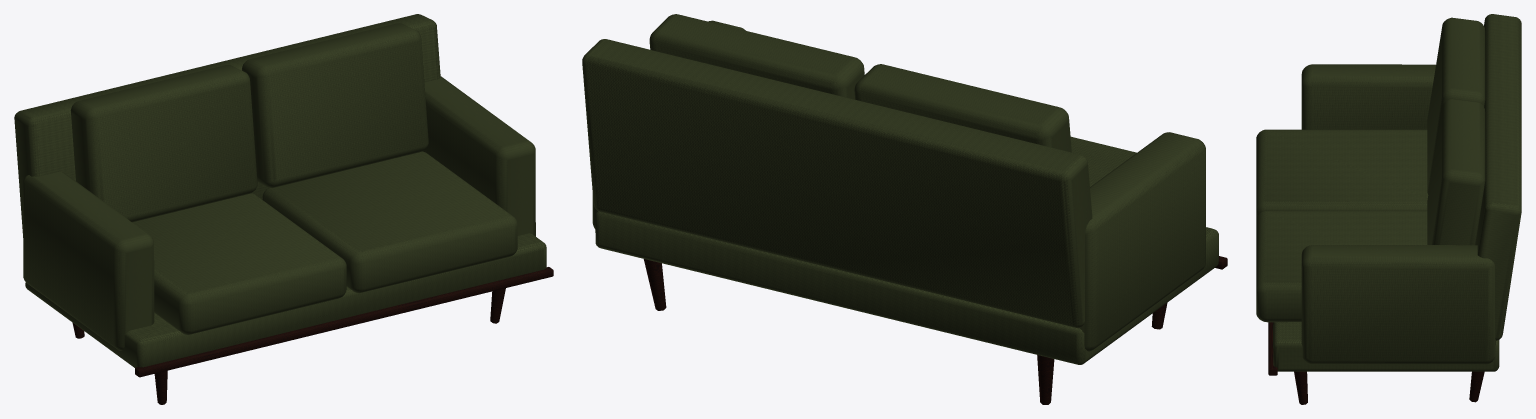
Rendered from living_sofa_2seat.glb.
3 renders of one model, left to right at view 1: azimuth 30°, elevation 25°; view 2: azimuth 150°, elevation 25°; view 3: azimuth 270°, elevation 25°, orthographic. The views are drawn at different scales.
Visible parts, largest first — view 1: Sırt_Minderi_Sag, Sırt_Minderi_Sol, Oturma_Minderi_Sag, Oturma_Minderi_Sol, Kol_Sol, Gövde_Alt_Kasa, Kol_Sag, Sırt_Gövdesi, Ahsap_Pervaz_On; view 2: Sırt_Gövdesi, Gövde_Alt_Kasa, Kol_Sol, Sırt_Minderi_Sol, Sırt_Minderi_Sag, Oturma_Minderi_Sol, Ayak_Arka_Sag, Ayak_Arka_Sol; view 3: Kol_Sag, Oturma_Minderi_Sol, Sırt_Gövdesi, Oturma_Minderi_Sag, Kol_Sol, Sırt_Minderi_Sag, Sırt_Minderi_Sol, Gövde_Alt_Kasa, Ayak_On_Sag, Ayak_Arka_Sag, Ahsap_Pervaz_On.
Boxes of the visible parts, x1,y1,x2,y2 form: Sırt_Minderi_Sag: (242, 23, 428, 187); Sırt_Minderi_Sol: (70, 65, 257, 222); Oturma_Minderi_Sag: (262, 151, 517, 293); Oturma_Minderi_Sol: (132, 193, 346, 334); Kol_Sol: (23, 171, 154, 350); Gövde_Alt_Kasa: (25, 233, 546, 367); Kol_Sag: (422, 76, 535, 236); Sırt_Gövdesi: (14, 14, 440, 237); Ahsap_Pervaz_On: (135, 267, 553, 377); Sırt_Gövdesi: (582, 39, 1092, 327); Gövde_Alt_Kasa: (595, 211, 1218, 364); Kol_Sol: (1079, 132, 1205, 351); Sırt_Minderi_Sol: (854, 64, 1071, 152); Sırt_Minderi_Sag: (649, 14, 864, 99); Oturma_Minderi_Sol: (1070, 136, 1136, 186); Ayak_Arka_Sag: (643, 259, 666, 310); Ayak_Arka_Sol: (1037, 355, 1054, 404); Kol_Sag: (1301, 245, 1495, 364); Oturma_Minderi_Sol: (1256, 129, 1428, 217); Sırt_Gövdesi: (1475, 14, 1521, 340); Oturma_Minderi_Sag: (1256, 210, 1427, 322); Kol_Sol: (1301, 64, 1435, 129); Sırt_Minderi_Sag: (1427, 98, 1485, 245); Sırt_Minderi_Sol: (1427, 17, 1485, 194); Gövde_Alt_Kasa: (1273, 322, 1499, 371); Ayak_On_Sag: (1294, 371, 1307, 404); Ayak_Arka_Sag: (1469, 371, 1484, 402); Ahsap_Pervaz_On: (1268, 322, 1277, 375).
Size of the model in its own units: 1.5 by 0.8111 by 0.8454.
2 materials, 2 textured.
